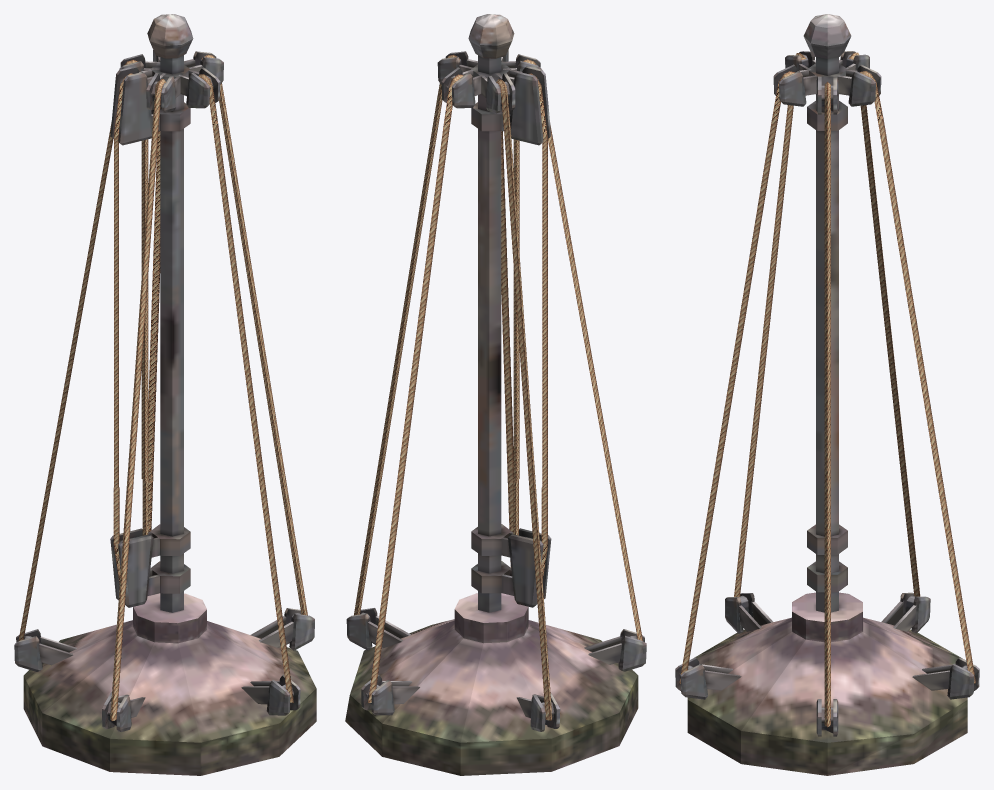
Rendered from C4FLAGPOLE.obj.
3 renders of one model, left to right at view 1: azimuth 30°, elevation 25°; view 2: azimuth 150°, elevation 25°; view 3: azimuth 270°, elevation 25°, orthographic.
Visible parts, largest first — view 1: Node 0, Node 2; view 2: Node 0, Node 2; view 3: Node 0.
Part boxes in pixels (x1,y1,x2,y2): Node 0: (14,14,316,775); Node 2: (114,73,148,487); Node 0: (345,14,646,775); Node 2: (513,73,547,487); Node 0: (675,14,979,775).
Bounding box in the file's own units: 5.15 × 12.87 × 5.08.
Materials: 3 (3 with a texture image).
